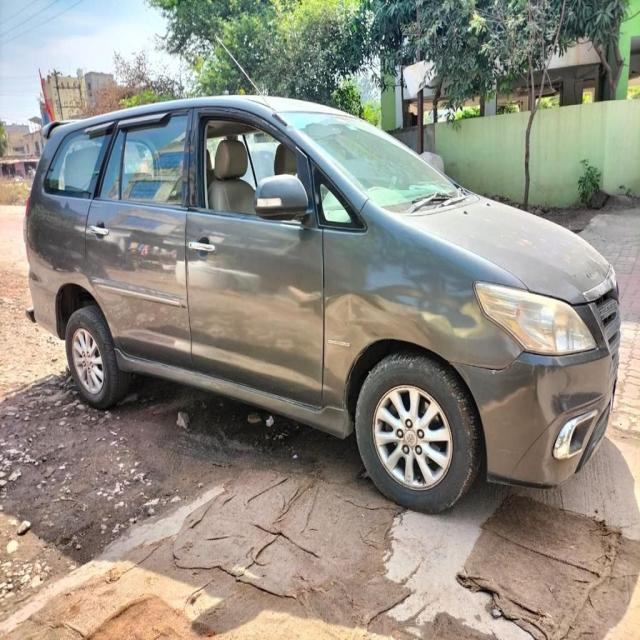light_vehicle: (23, 93, 623, 514)
